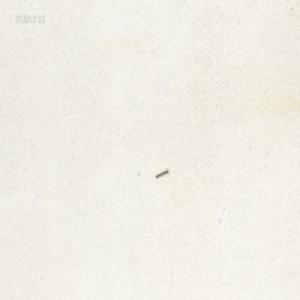Bolt: (155, 167, 168, 178)
